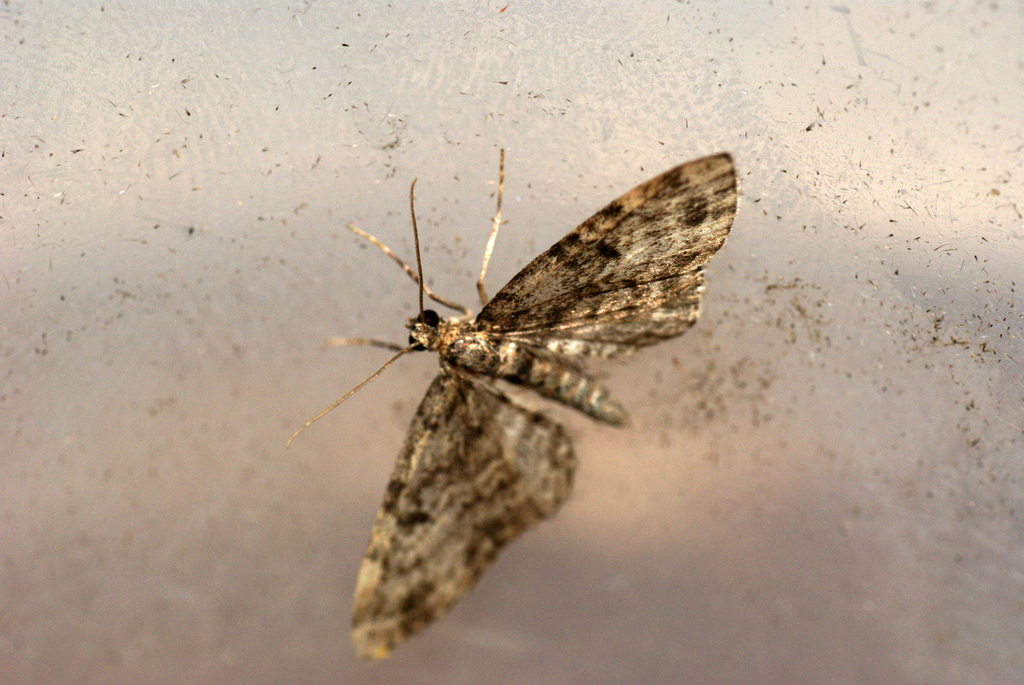Butterfly: (276, 141, 768, 661)
